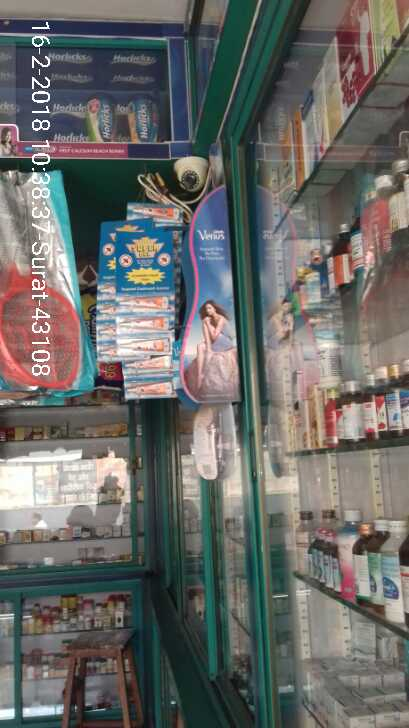reject: (70, 224, 252, 378)
